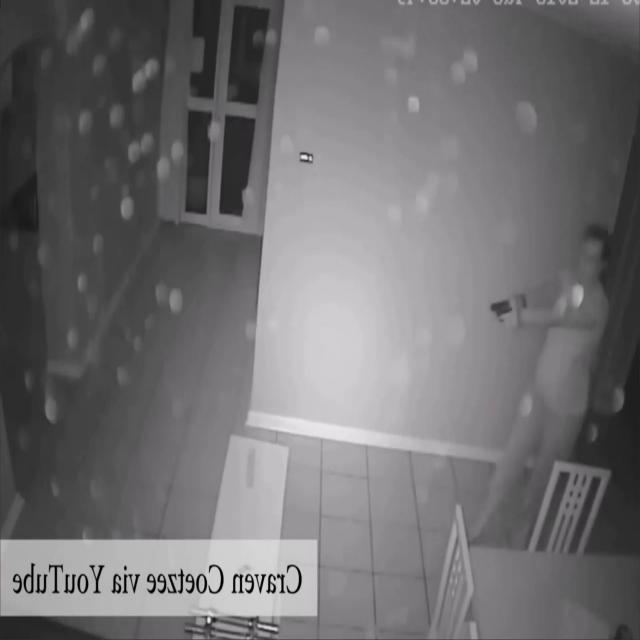Gun: (489, 297, 517, 326)
